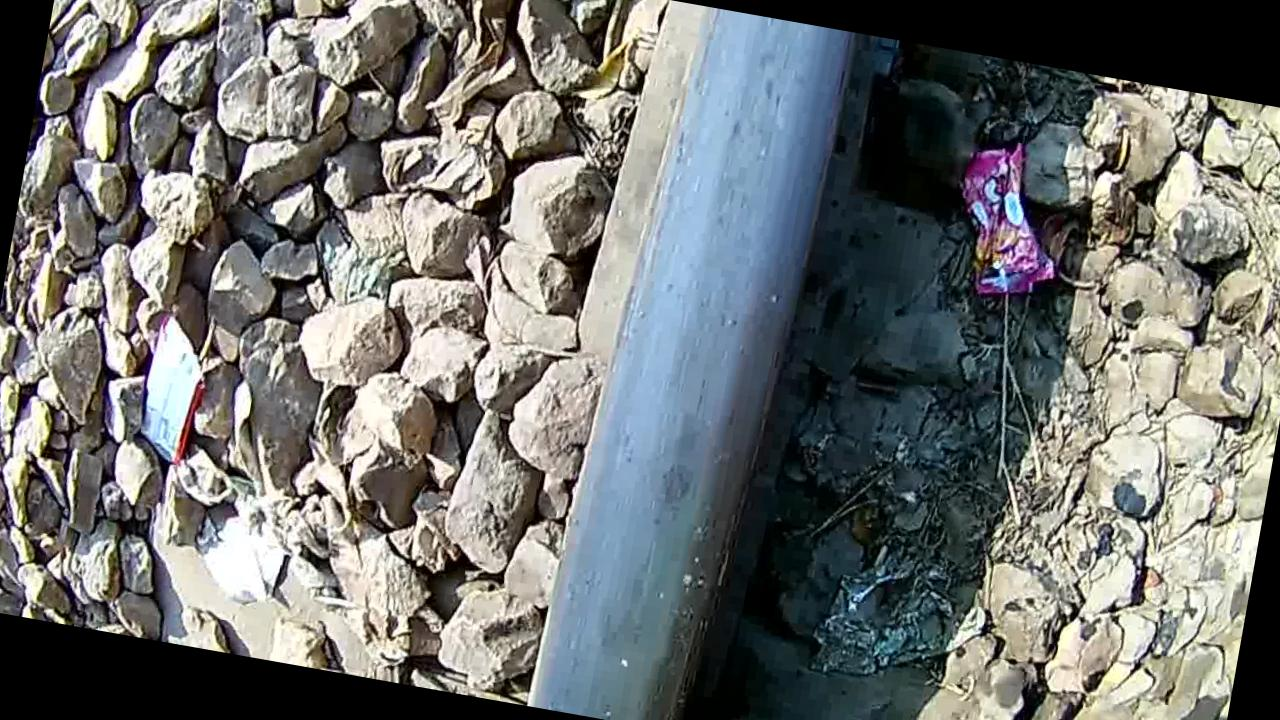bolt_missing: (558, 57, 842, 720)
